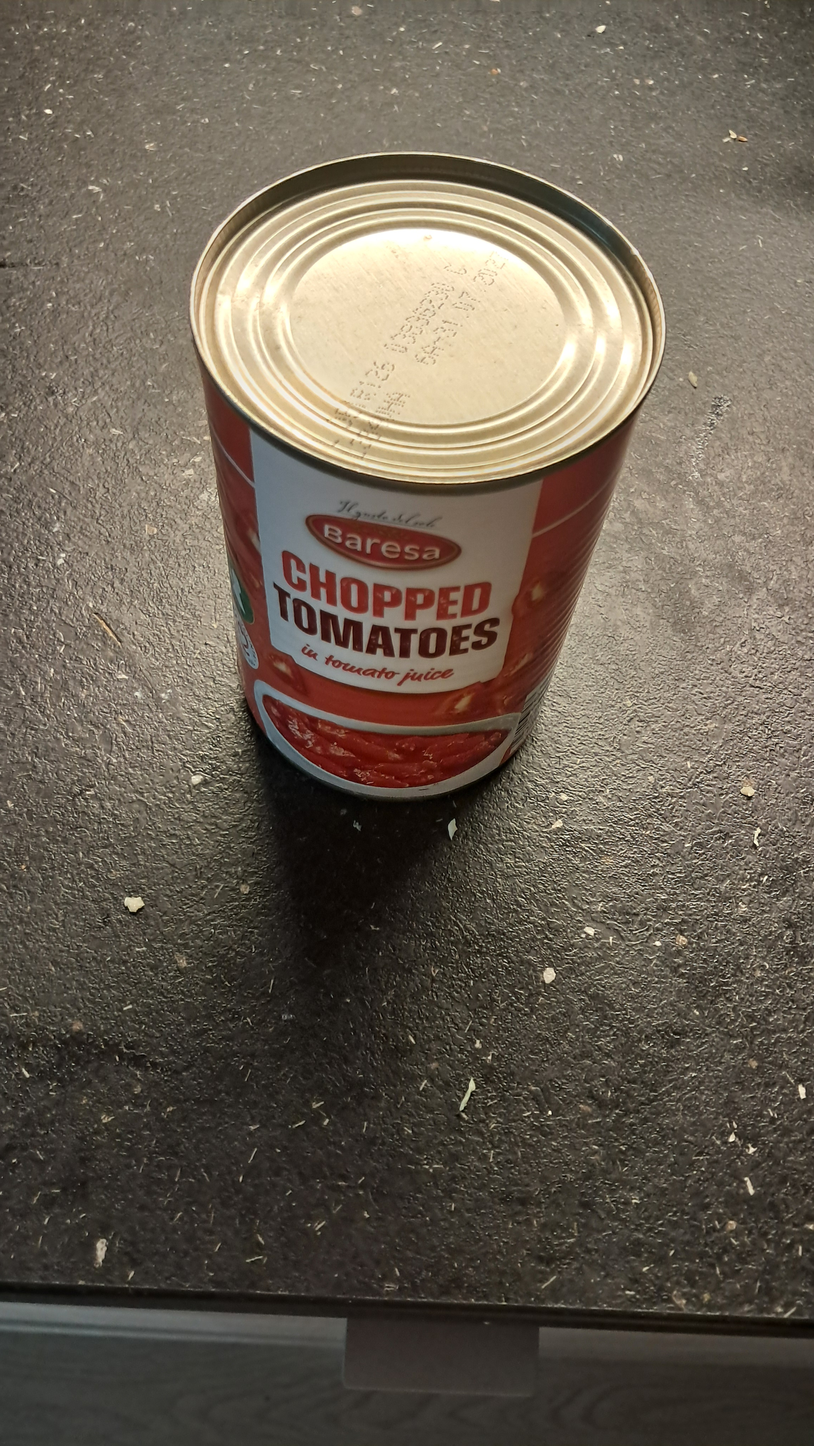Konservburk: (187, 150, 668, 806)
